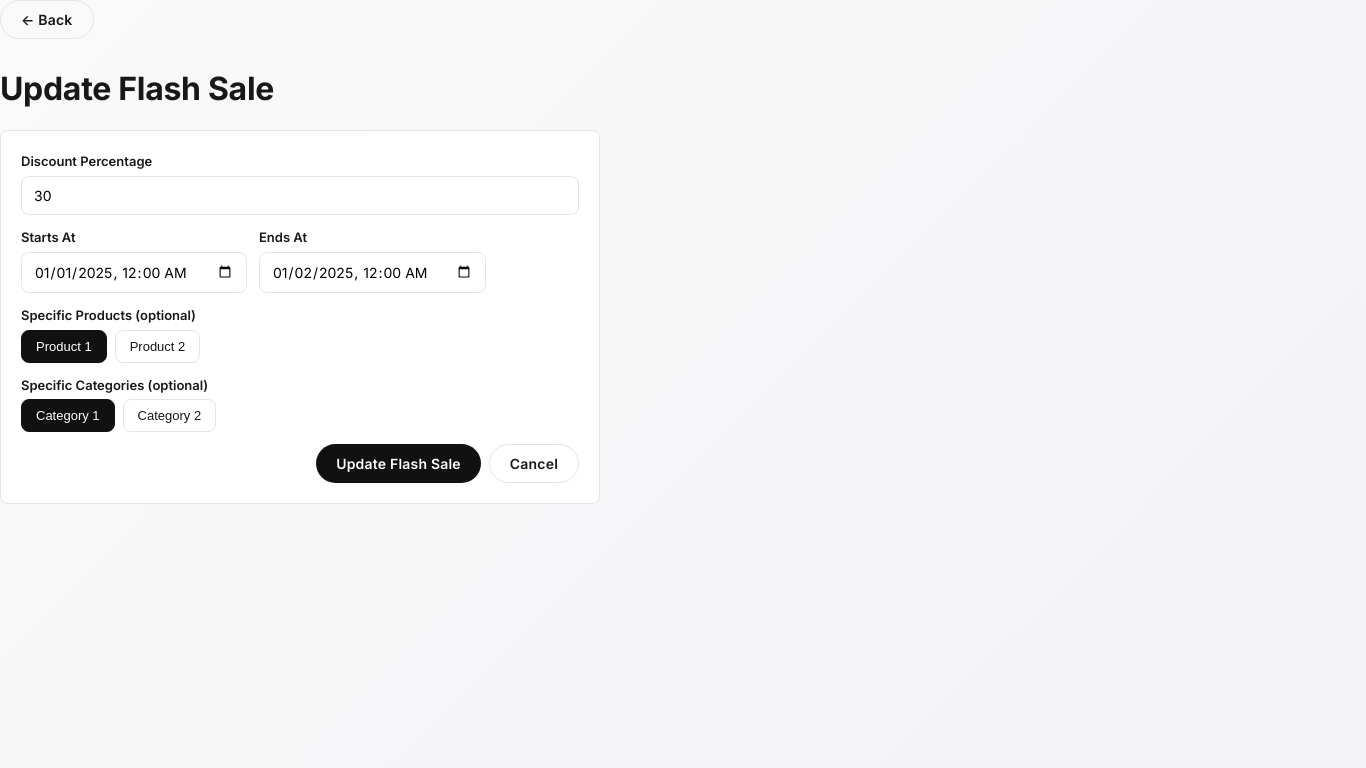
AdminFlashSaleForm › Edit Mode › should show error when update fails
Expected: the number field showing "30" is shown, [21, 176, 579, 215]
Click the button "Update Flash Sale": (398, 464) [316, 444, 481, 483]
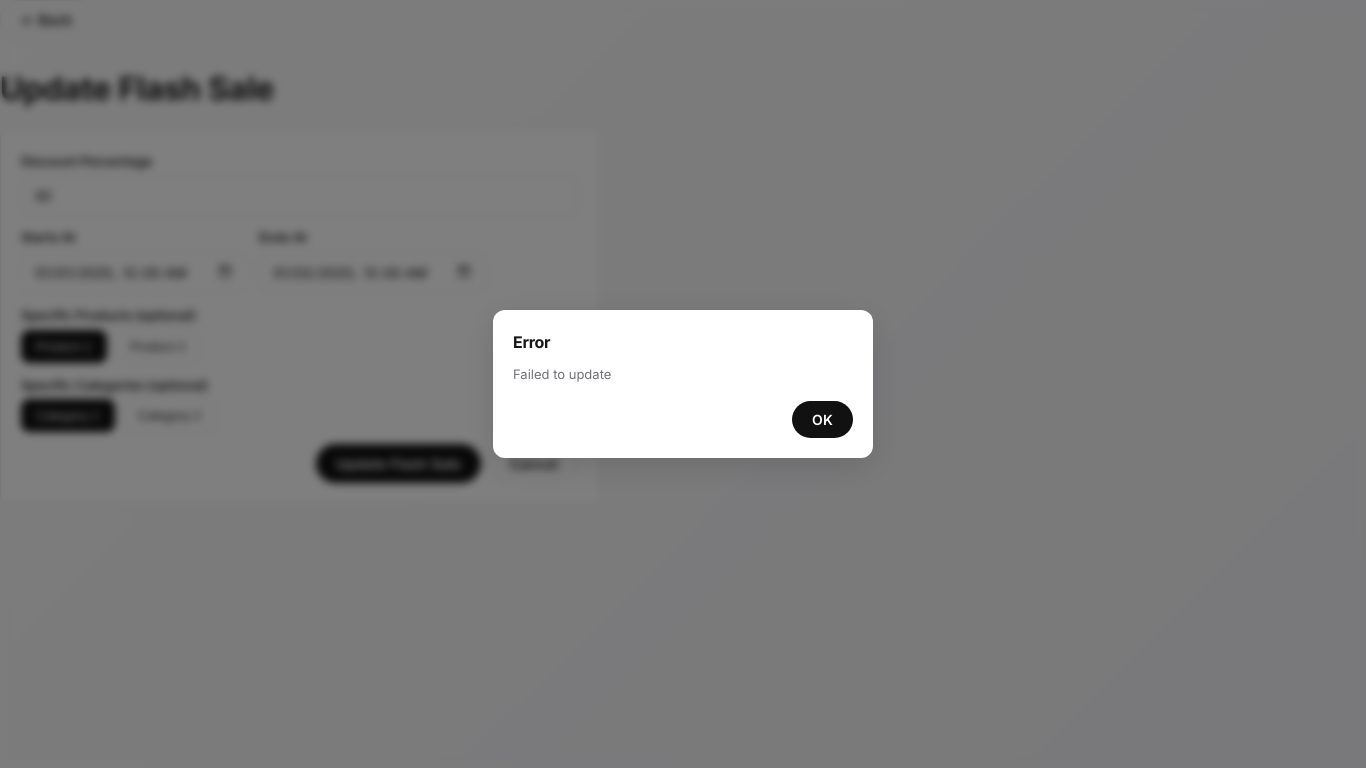
Result: the text "Failed to update" is shown at [513, 366, 611, 382]
